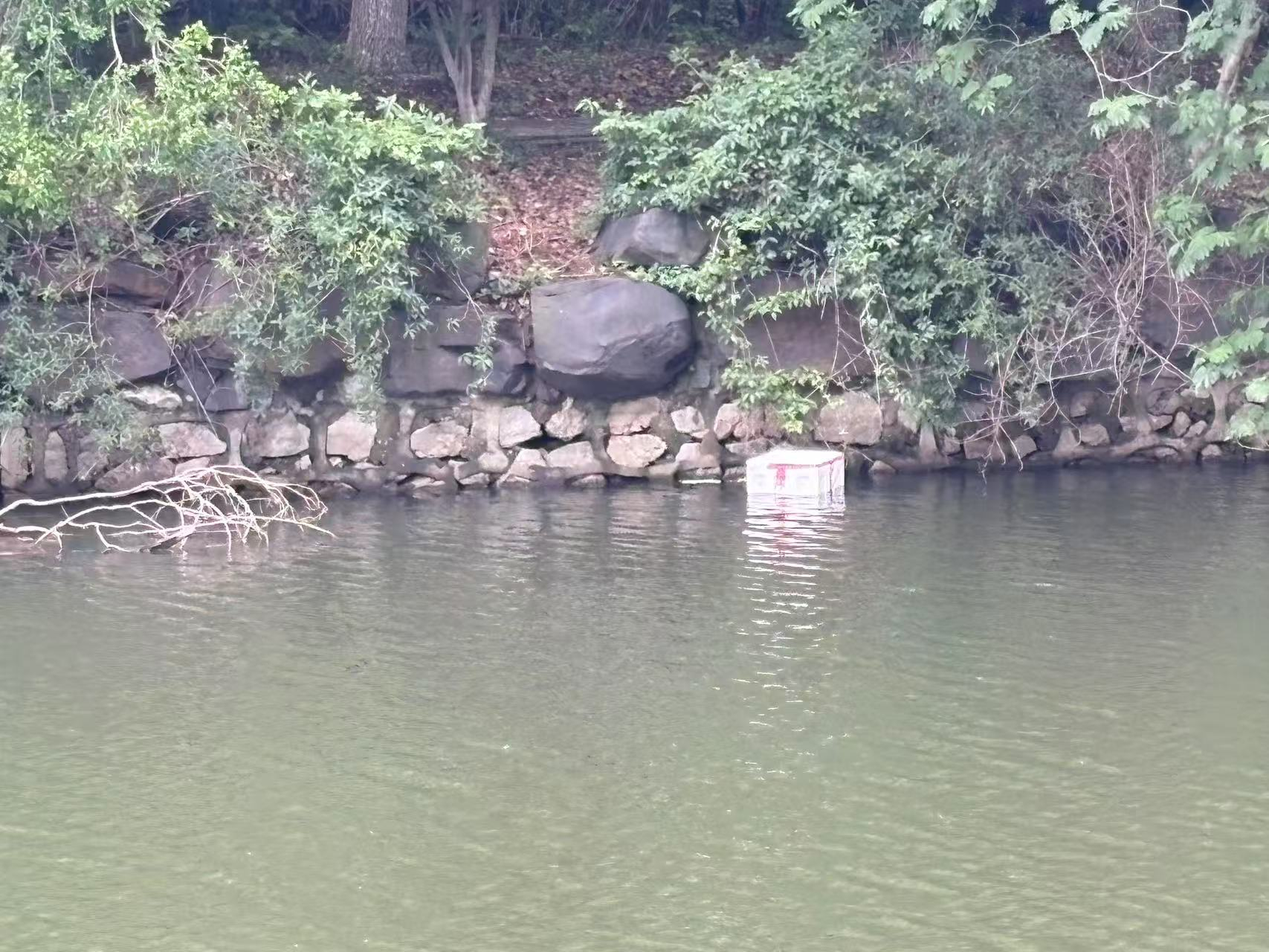Plastic wastes: (740, 445, 856, 514)
